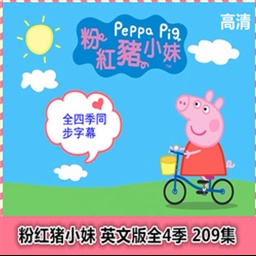Peppa: (169, 90, 235, 197)
